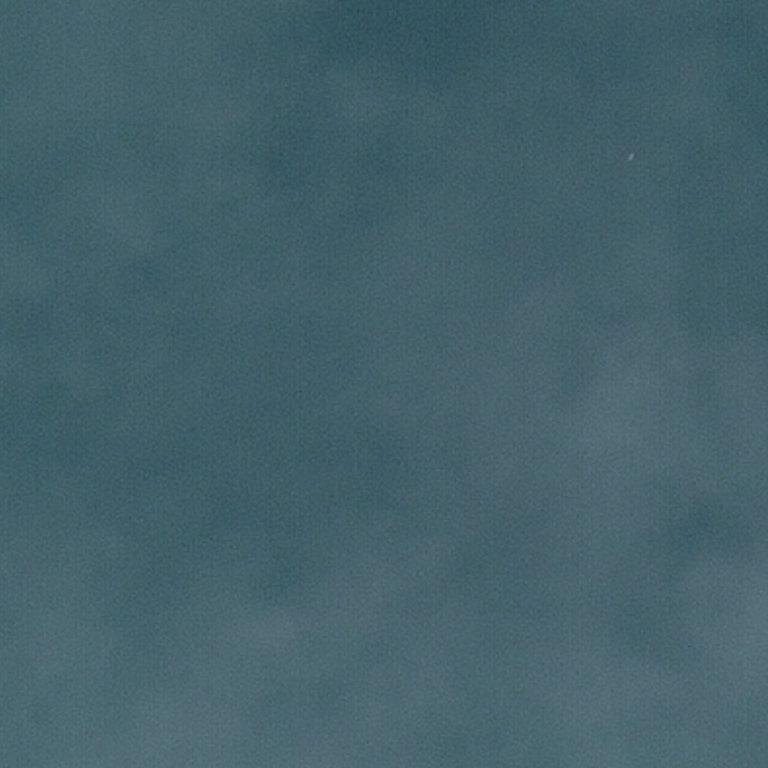ship: (612, 149, 628, 165), (627, 159, 631, 161), (633, 153, 635, 155), (615, 151, 616, 155)
